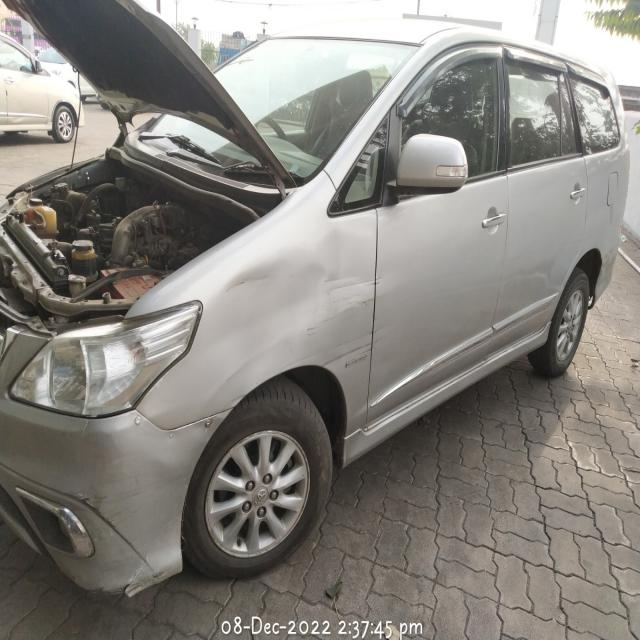damage: (319, 258, 378, 388), (218, 270, 280, 299), (115, 574, 150, 600), (78, 492, 96, 507)
